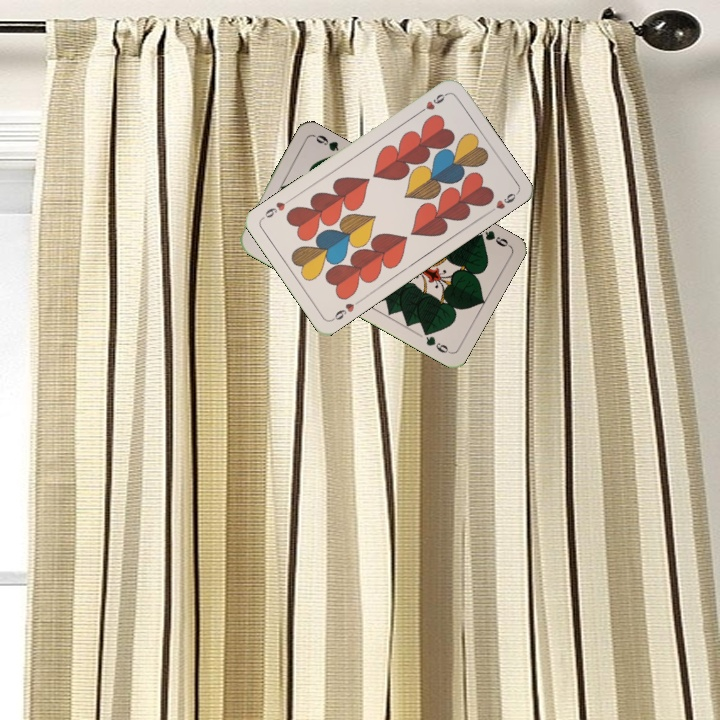G9: (471, 226, 513, 249)
H9: (414, 89, 450, 117), (327, 296, 363, 323)
